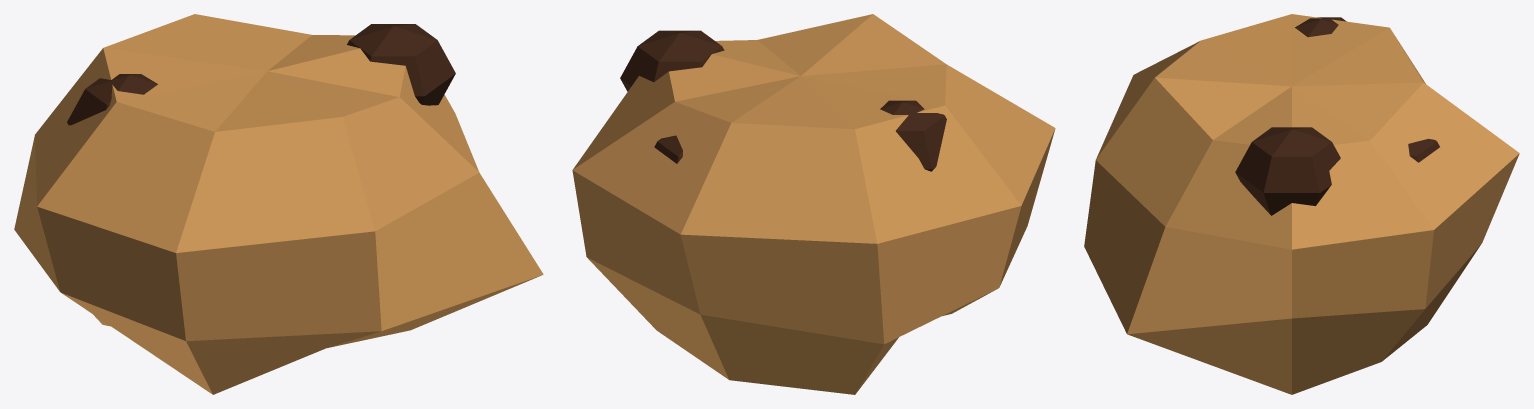
File: crumb.glb
The picture shows the model from 3 angles, left to right: view 1: azimuth 30°, elevation 25°; view 2: azimuth 150°, elevation 25°; view 3: azimuth 270°, elevation 25°; orthographic projection. The views are drawn at different scales.
Visible parts, largest first — view 1: crumb; view 2: crumb; view 3: crumb.
Boxes of the visible parts, x1,y1,x2,y2 form: crumb: (14, 14, 543, 394); crumb: (572, 14, 1055, 394); crumb: (1084, 14, 1519, 394).
Size of the model in its own units: 0.232 by 0.1599 by 0.2303.
